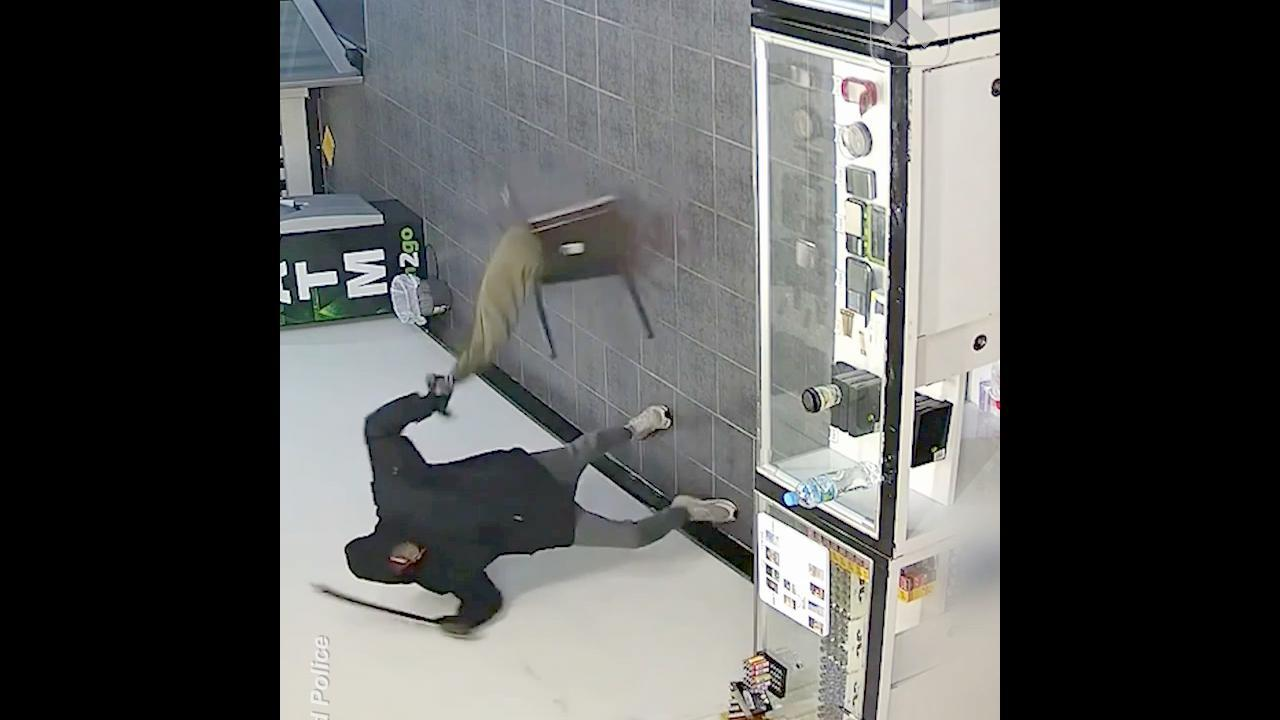melee: (304, 576, 452, 628)
